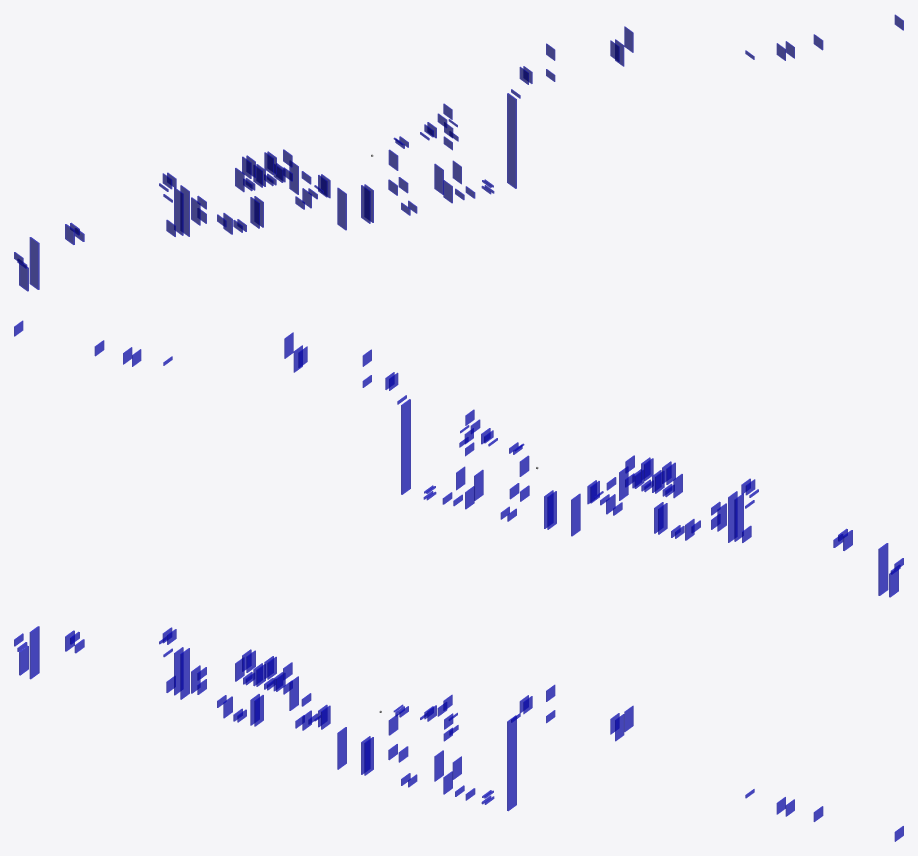
The model's file is Final_Level_InteractableWalls2.fbx.
3 renders of one model, top to bottom at view 1: azimuth 30°, elevation 25°; view 2: azimuth 150°, elevation 25°; view 3: azimuth 330°, elevation 25°, orthographic.
Visible parts, largest first — view 1: wall_Interactable73; view 2: wall_Interactable73; view 3: wall_Interactable73, wall_Interactable5, wall_Interactable14.
Part boxes in pixels (x1=…): wall_Interactable73: x1=507, y1=93, x2=516, y2=188; wall_Interactable73: x1=401, y1=399, x2=410, y2=494; wall_Interactable73: x1=507, y1=715, x2=516, y2=811; wall_Interactable5: x1=29, y1=626, x2=39, y2=679; wall_Interactable14: x1=180, y1=648, x2=189, y2=699.
Size of the model in its own units: 595 by 84.06 by 10.51.
